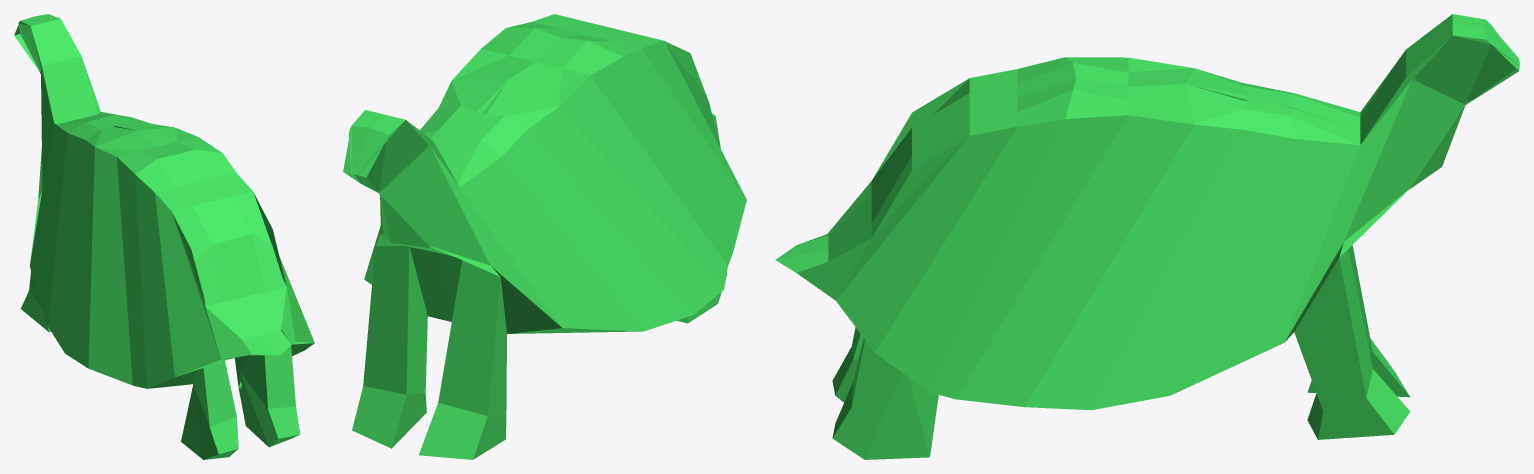
The model's file is HENYOMODELS.fbx.
3 views of the same model, side by side, from view 1: azimuth 30°, elevation 25°; view 2: azimuth 150°, elevation 25°; view 3: azimuth 270°, elevation 25° (orthographic). The views are drawn at different scales.
Visible parts, largest first — view 1: Plane; view 2: Plane; view 3: Plane.
Boxes of the visible parts, x1=… form: Plane: x1=14, y1=14, x2=314, y2=459; Plane: x1=343, y1=14, x2=746, y2=459; Plane: x1=775, y1=14, x2=1519, y2=459.
Size of the model in its own units: 206 by 264 by 437.
